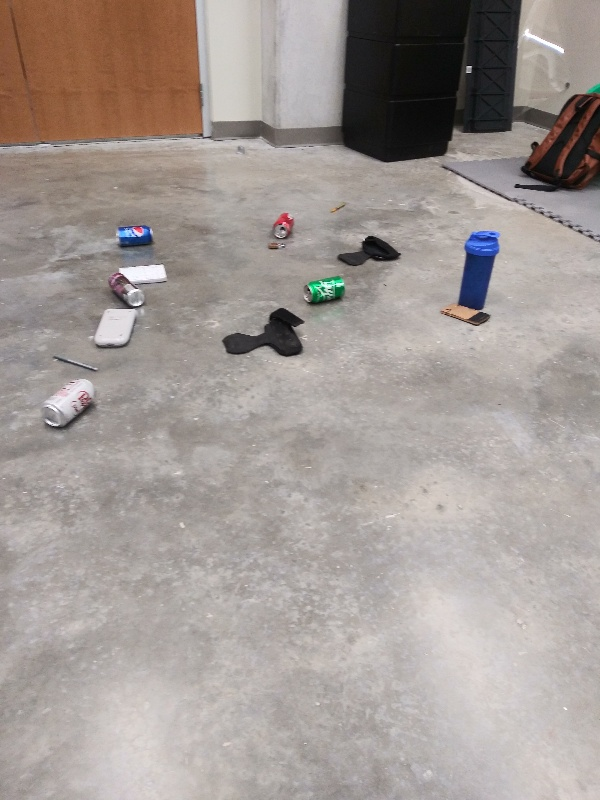can: (39, 376, 100, 434), (104, 269, 151, 309), (299, 273, 350, 309), (112, 222, 158, 252), (266, 208, 303, 240)
